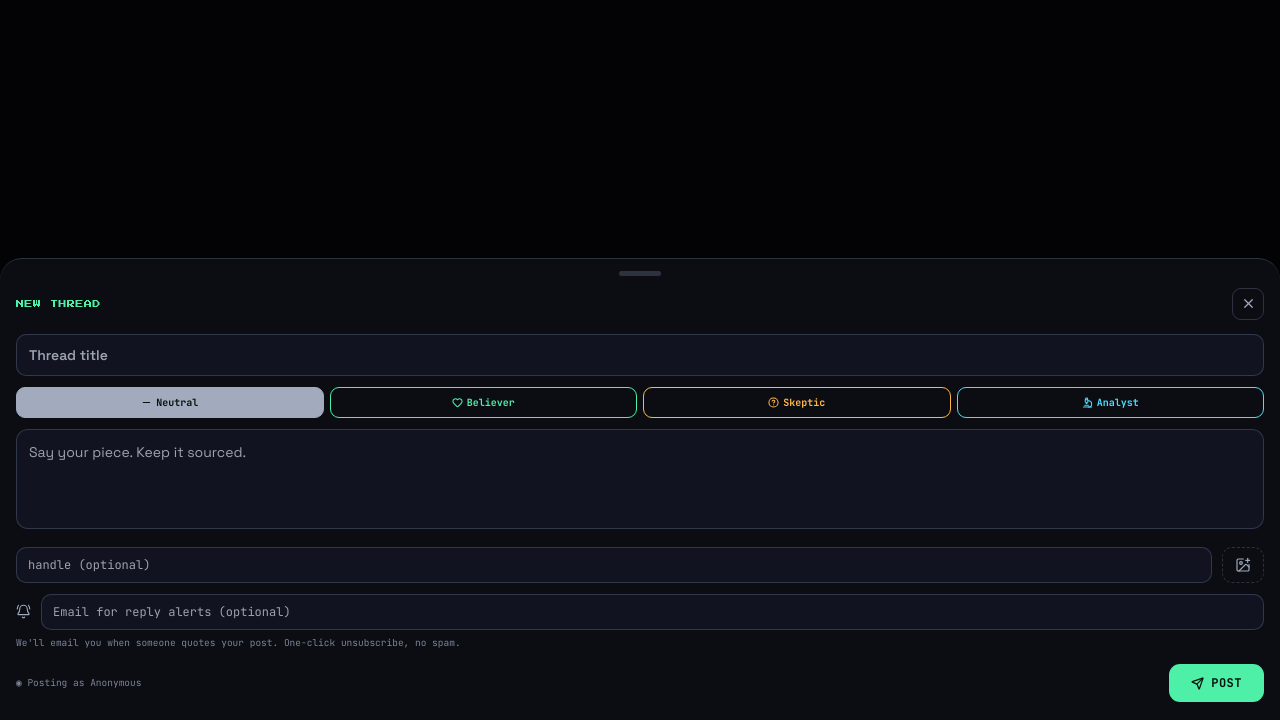
Composer › toasts 'Say something first' and does not submit when the body is empty
Click the button "POST": (1217, 683) x1=1169 y1=664 x2=1264 y2=702
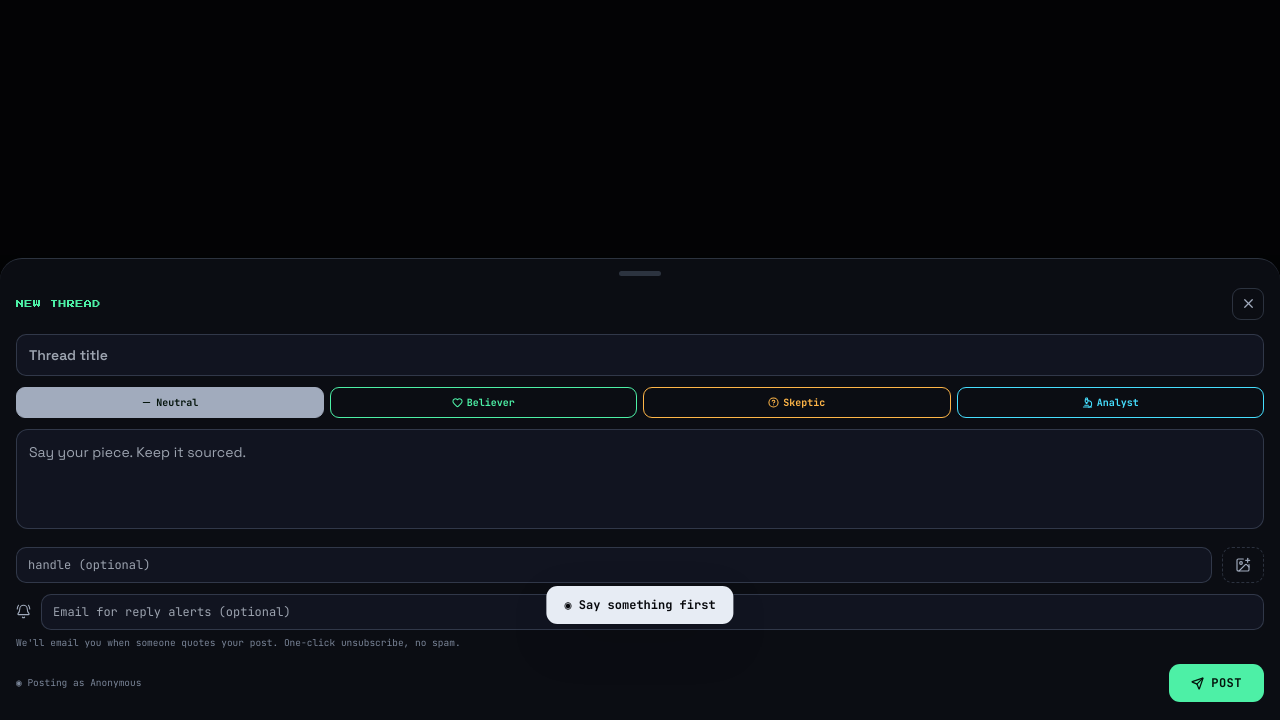
Expected: the text "◉ Say something first" is shown, x1=546 y1=586 x2=734 y2=624
